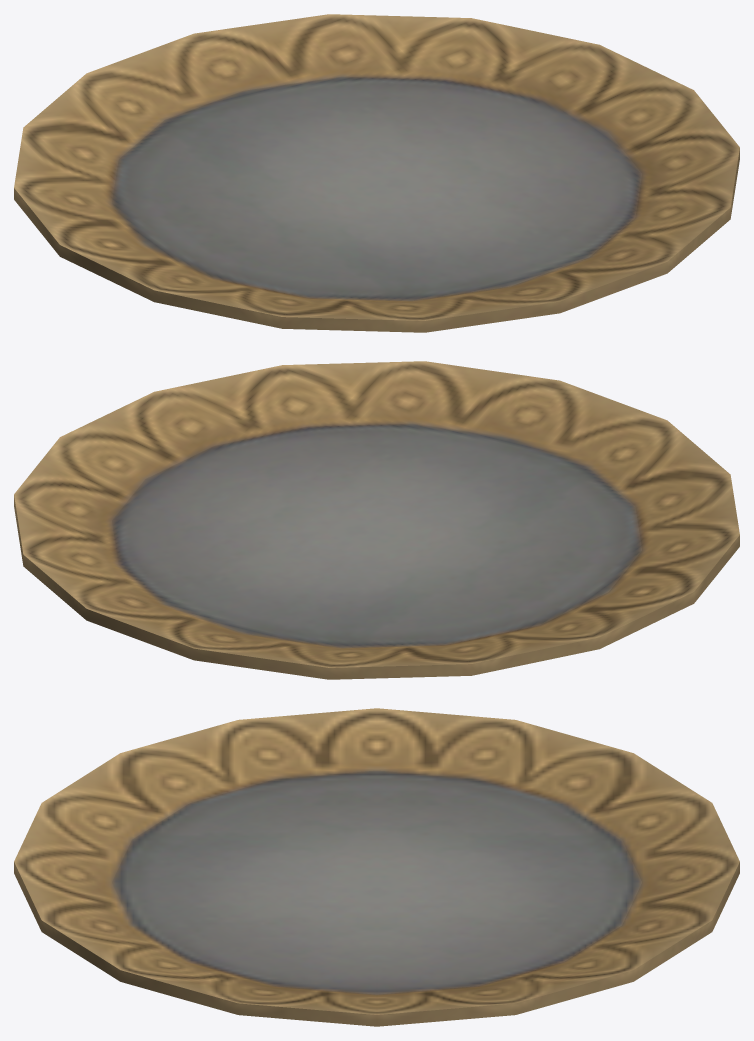
The model's file is luxury_plate_01.fbx.
3 views of the same model, one above another, from view 1: azimuth 30°, elevation 25°; view 2: azimuth 150°, elevation 25°; view 3: azimuth 270°, elevation 25° (orthographic).
Parts seen in each view (by area): view 1: luxury_plate_01; view 2: luxury_plate_01; view 3: luxury_plate_01.
Part boxes in pixels (left/top/right/bottom): luxury_plate_01: left=14, top=14, right=739, bottom=332; luxury_plate_01: left=14, top=361, right=739, bottom=679; luxury_plate_01: left=14, top=708, right=739, bottom=1026.
Size of the model in its own units: 39.27 by 1.71 by 39.27.
